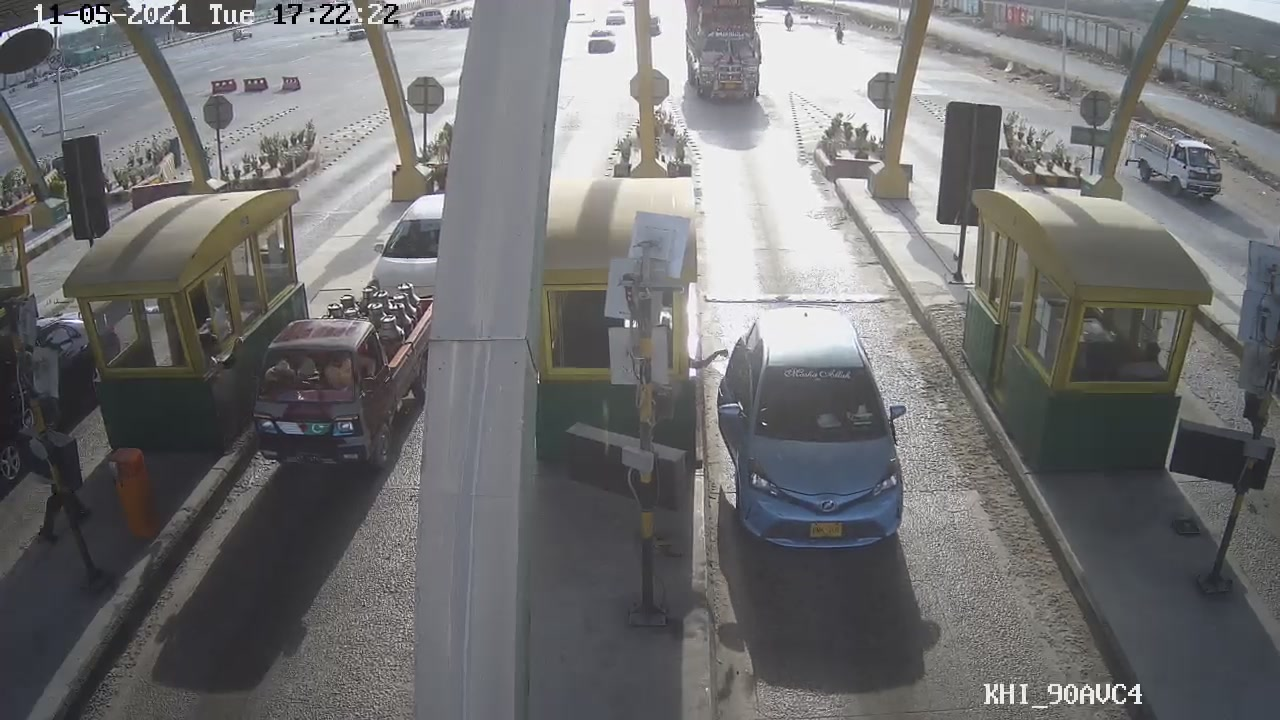F1: (708, 306, 923, 553)
